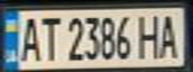2: (63, 12, 84, 62)
3: (81, 12, 100, 62)
6: (115, 11, 139, 61)
8: (100, 12, 118, 61)
A: (154, 10, 184, 60), (15, 14, 42, 62)
H: (136, 10, 163, 60)
T: (36, 12, 63, 62)
